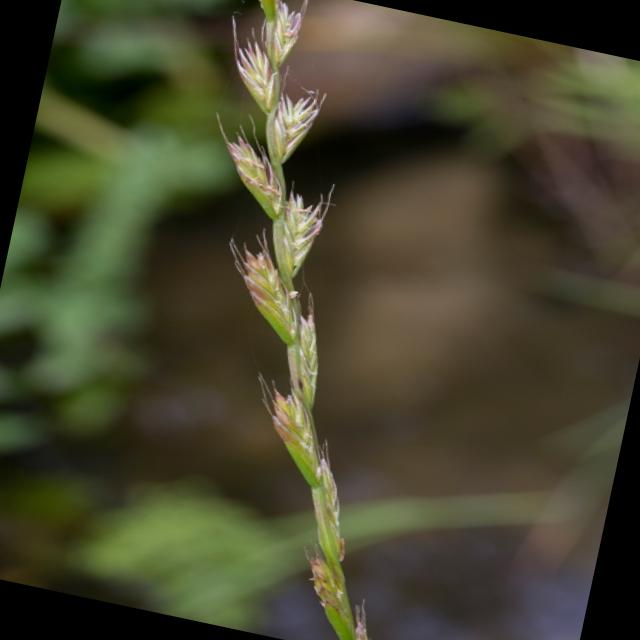Lolium: (103, 0, 509, 640)
